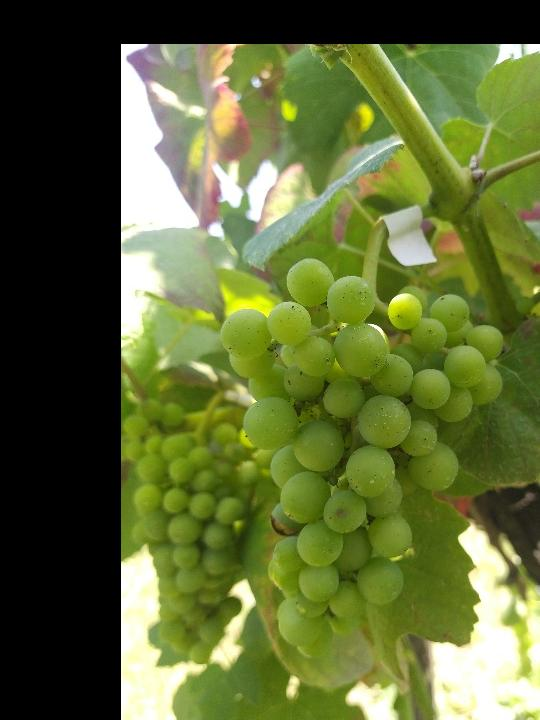grape: (213, 253, 504, 659), (125, 398, 272, 666)
